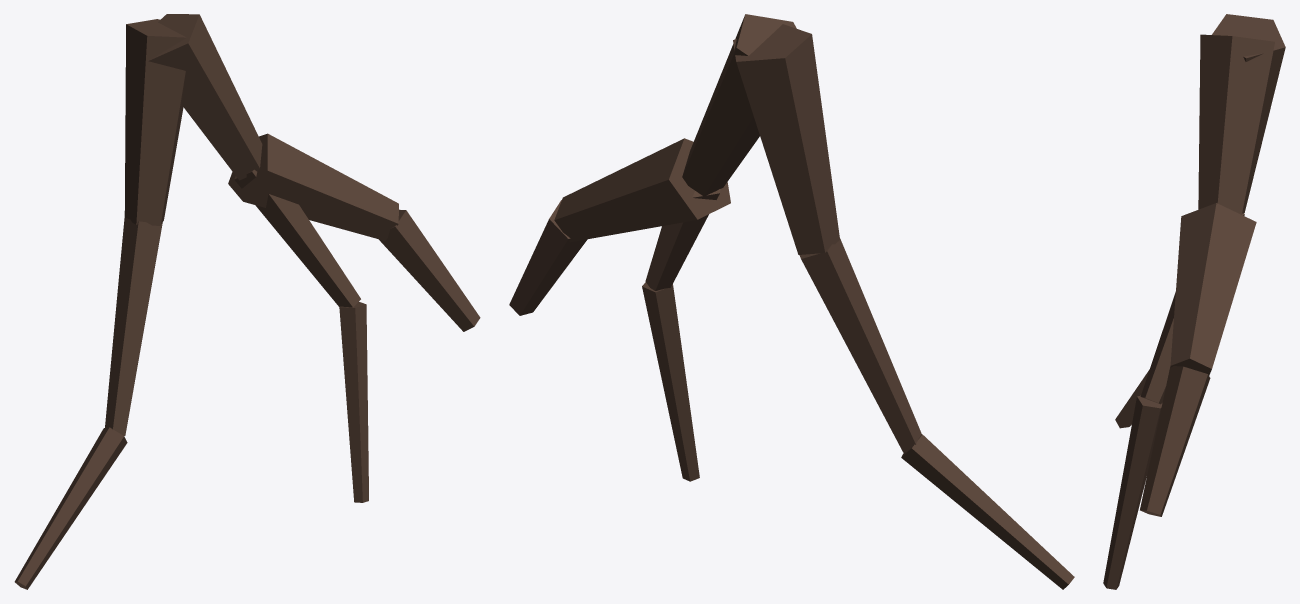
Rendered from exposed-roots.glb.
3 renders of one model, left to right at view 1: azimuth 30°, elevation 25°; view 2: azimuth 150°, elevation 25°; view 3: azimuth 270°, elevation 25°, orthographic. The views are drawn at different scales.
Parts seen in each view (by area): view 1: Exposed root, Exposed root.006, Exposed root.003, Exposed root.001, Exposed root.005, Exposed root.002, Exposed root.004, Exposed root.007; view 2: Exposed root, Exposed root.006, Exposed root.001, Exposed root.003, Exposed root.002, Exposed root.005, Exposed root.007, Exposed root.004; view 3: Exposed root.003, Exposed root.006, Exposed root.007, Exposed root.005, Exposed root, Exposed root.004, Exposed root.002.
Part boxes in pixels (left/top/right/bottom): Exposed root: left=124, top=19, right=186, bottom=225; Exposed root.006: left=228, top=133, right=398, bottom=240; Exposed root.003: left=148, top=14, right=262, bottom=180; Exposed root.001: left=105, top=218, right=162, bottom=435; Exposed root.005: left=339, top=302, right=368, bottom=502; Exposed root.002: left=14, top=427, right=127, bottom=589; Exposed root.004: left=234, top=169, right=360, bottom=307; Exposed root.007: left=379, top=209, right=480, bottom=331; Exposed root: left=733, top=24, right=839, bottom=254; Exposed root.006: left=554, top=138, right=730, bottom=242; Exposed root.001: left=799, top=238, right=921, bottom=452; Exposed root.003: left=682, top=14, right=796, bottom=196; Exposed root.002: left=901, top=434, right=1074, bottom=589; Exposed root.005: left=642, top=282, right=699, bottom=481; Exposed root.007: left=509, top=200, right=587, bottom=315; Exposed root.004: left=645, top=189, right=720, bottom=290; Exposed root.003: left=1198, top=34, right=1274, bottom=214; Exposed root.006: left=1170, top=203, right=1256, bottom=375; Exposed root.007: left=1140, top=366, right=1210, bottom=516; Exposed root.005: left=1103, top=395, right=1162, bottom=589; Exposed root: left=1212, top=14, right=1285, bottom=213; Exposed root.004: left=1140, top=291, right=1175, bottom=404; Exposed root.002: left=1115, top=369, right=1149, bottom=428.
Bounding box in the file's own units: 1.44 × 1.39 × 0.4527.
